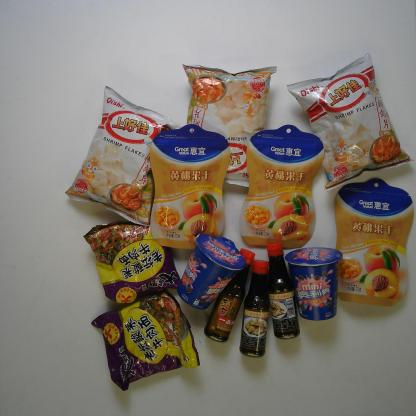Dessert: (176, 232, 247, 311), (284, 246, 344, 323)
Dried Fruit: (238, 123, 326, 250), (334, 177, 416, 308), (149, 123, 231, 252)
Instant Noodles: (90, 288, 201, 393), (83, 219, 181, 307)
Puffed Food: (286, 52, 415, 194), (64, 84, 180, 229), (182, 61, 278, 188)
Seasoner: (203, 246, 256, 344), (266, 242, 300, 341), (238, 258, 271, 359)
